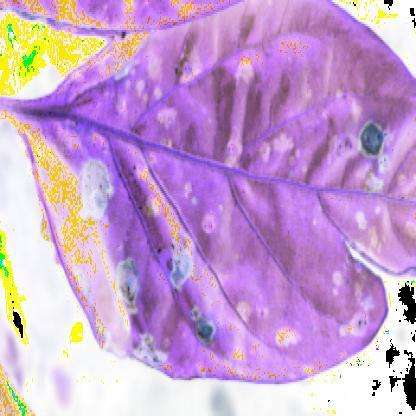Bell_pepper leaf: (35, 16, 414, 384)
